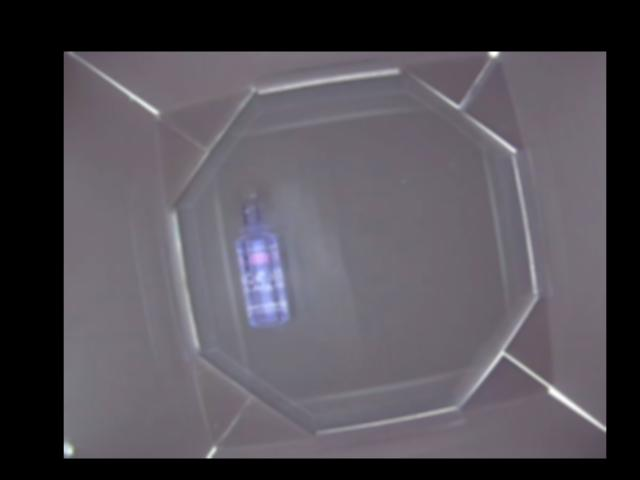Bottle: (229, 188, 293, 327)
